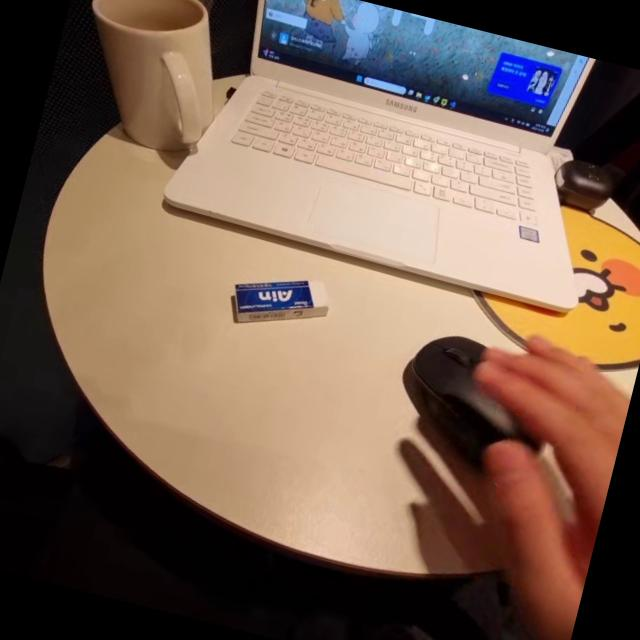eraser: (216, 258, 344, 354)
grab_mouse: (364, 318, 636, 580)
hand: (442, 338, 636, 596)
mouse: (393, 316, 553, 462)
